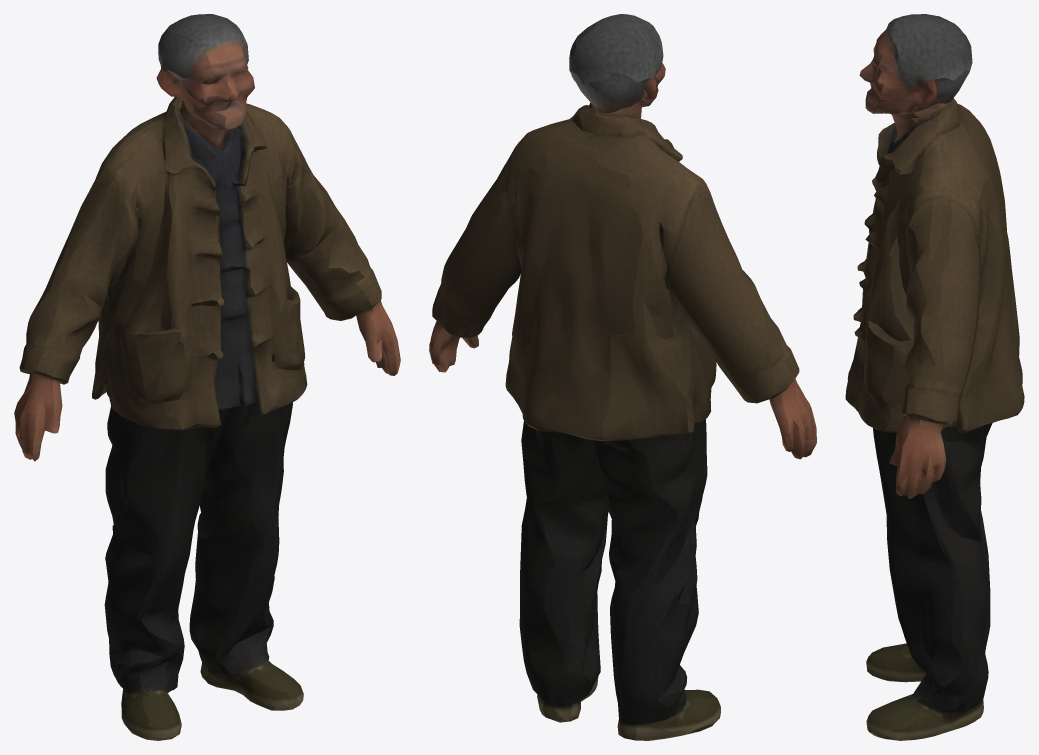
File: chen.glb
3 views of the same model, side by side, from view 1: azimuth 30°, elevation 25°; view 2: azimuth 150°, elevation 25°; view 3: azimuth 270°, elevation 25° (orthographic).
Visible parts, largest first — view 1: world; view 2: world; view 3: world.
Boxes of the visible parts, bbox=[...] form: world: bbox=[14, 14, 400, 740]; world: bbox=[429, 14, 816, 740]; world: bbox=[845, 14, 1024, 740].
Bounding box in the file's own units: 0.5723 × 1 × 0.2382.
Materials: 1 (1 with a texture image).
